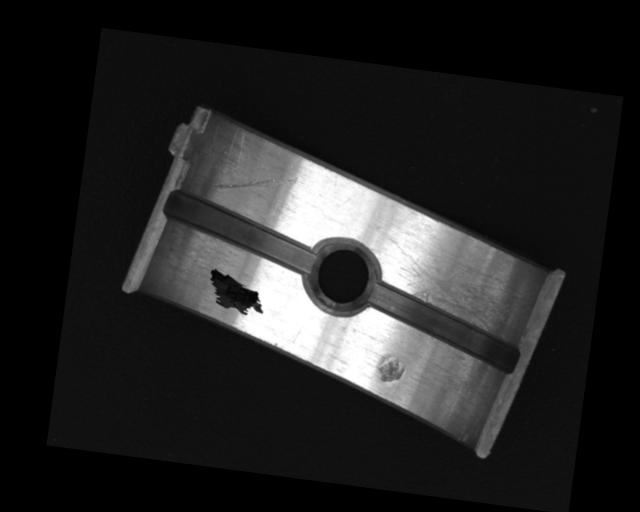blot: (205, 266, 269, 318)
bruise: (374, 350, 407, 385)
gap: (361, 279, 526, 373), (160, 188, 324, 275)
hole: (303, 237, 382, 315)
nick: (212, 165, 299, 201)
scratch: (378, 235, 537, 336)
